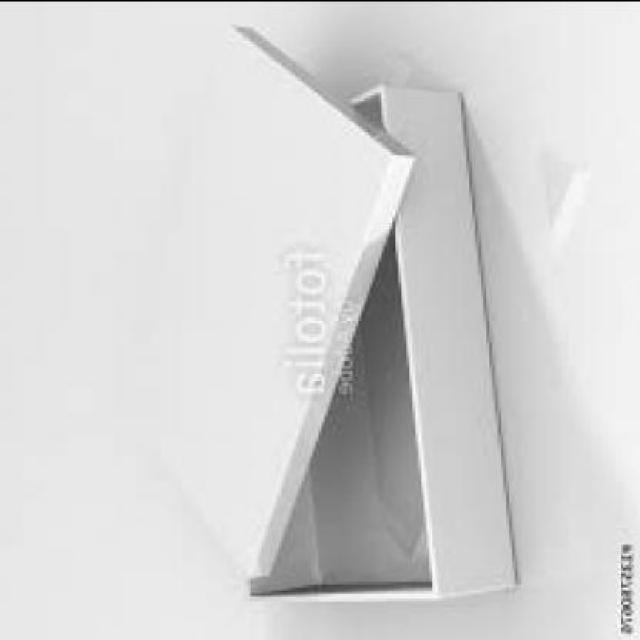CARDBOARD: (162, 19, 518, 598), (247, 83, 518, 597), (162, 20, 412, 577)
